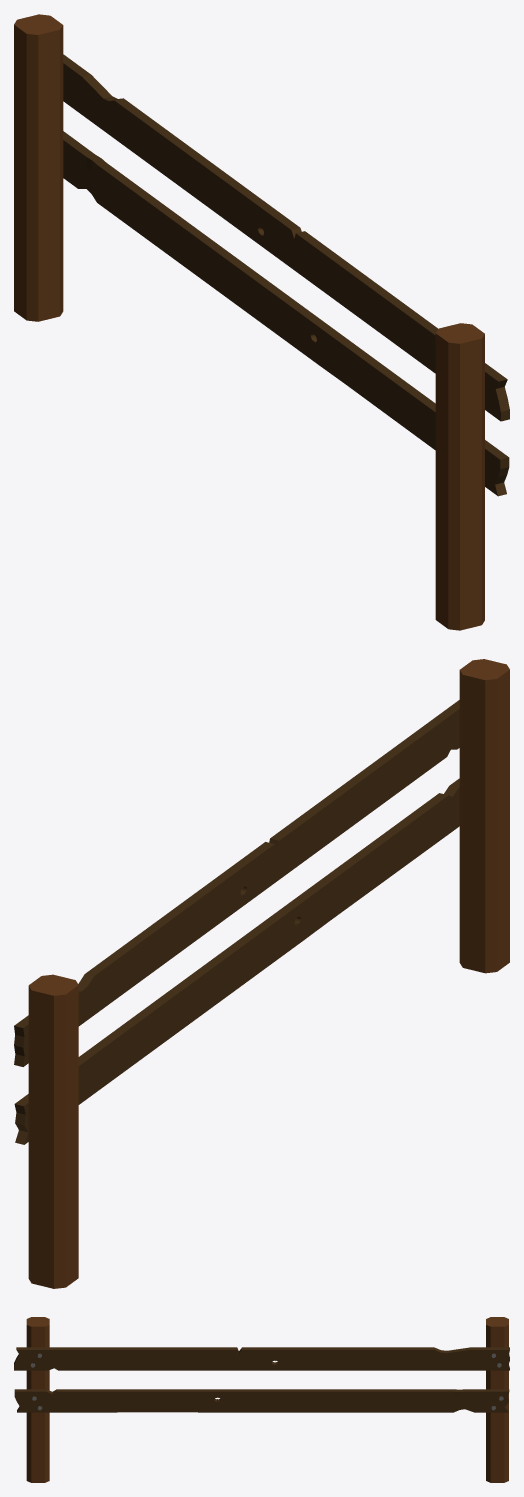
The model's file is Fence.fbx.
The picture shows the model from 3 angles, top to bottom: view 1: azimuth 30°, elevation 25°; view 2: azimuth 150°, elevation 25°; view 3: azimuth 270°, elevation 25°; orthographic projection. The views are drawn at different scales.
Visible parts, largest first — view 1: Cube.004, Cube.002, Cube.003, Cube.001; view 2: Cube.004, Cube.002, Cube.001, Cube.003; view 3: Cube.004, Cube.002, Cube.001, Cube.003.
Part boxes in pixels (x1,y1,x2,y2): Cube.004: (63,54,509,421); Cube.002: (63,131,509,496); Cube.003: (14,14,63,321); Cube.001: (435,323,484,630); Cube.004: (14,700,459,1066); Cube.002: (14,778,459,1144); Cube.001: (459,659,509,973); Cube.003: (28,974,78,1288); Cube.004: (14,1347,509,1370); Cube.002: (14,1389,509,1412); Cube.001: (26,1317,49,1482); Cube.003: (486,1317,508,1482).
Size of the model in its own units: 26.61 by 150 by 432.
